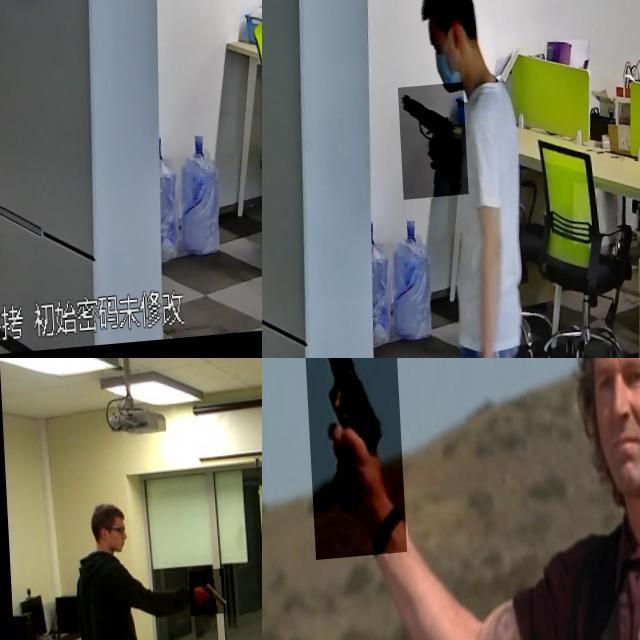gun-knife-thesis - v11 Yolov5 augmented: (300, 358, 402, 561), (395, 90, 464, 207), (185, 572, 222, 620), (0, 162, 14, 241)
